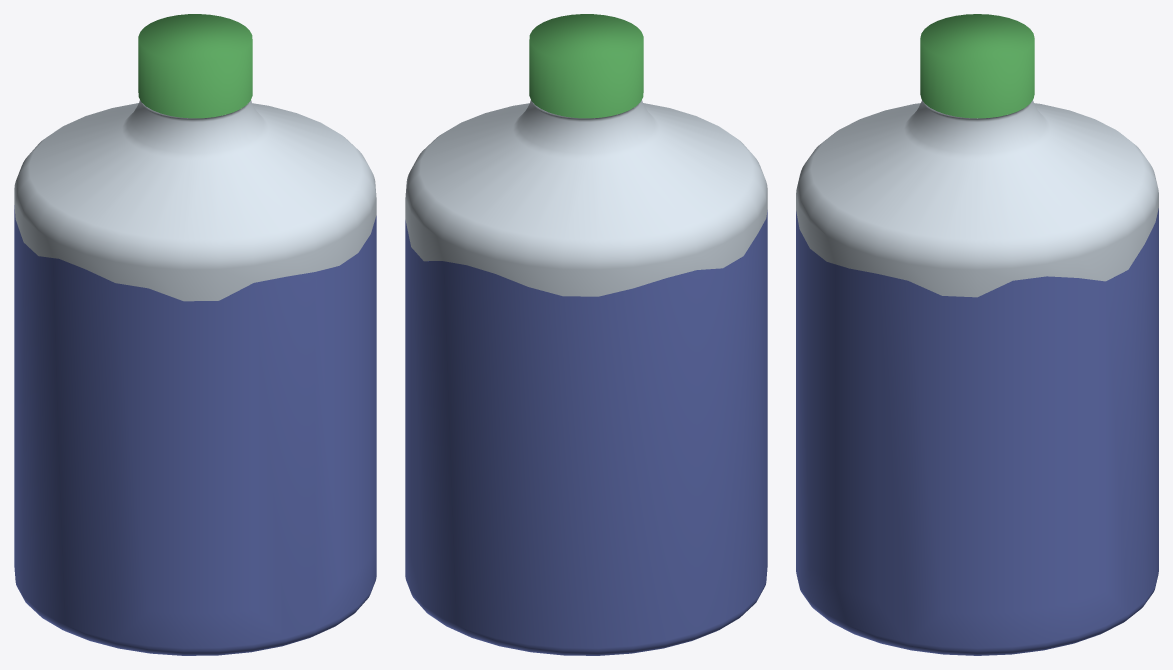
Rendered from eau2.gltf.
3 views of the same model, side by side, from view 1: azimuth 30°, elevation 25°; view 2: azimuth 150°, elevation 25°; view 3: azimuth 270°, elevation 25° (orthographic).
Visible parts, largest first — view 1: Cube; view 2: Cube; view 3: Cube.
Boxes of the visible parts, <box> form: Cube: <box>14,14,376,655</box>; Cube: <box>405,14,767,655</box>; Cube: <box>796,14,1158,655</box>.
Size of the model in its own units: 1.46 by 2.42 by 1.46.
